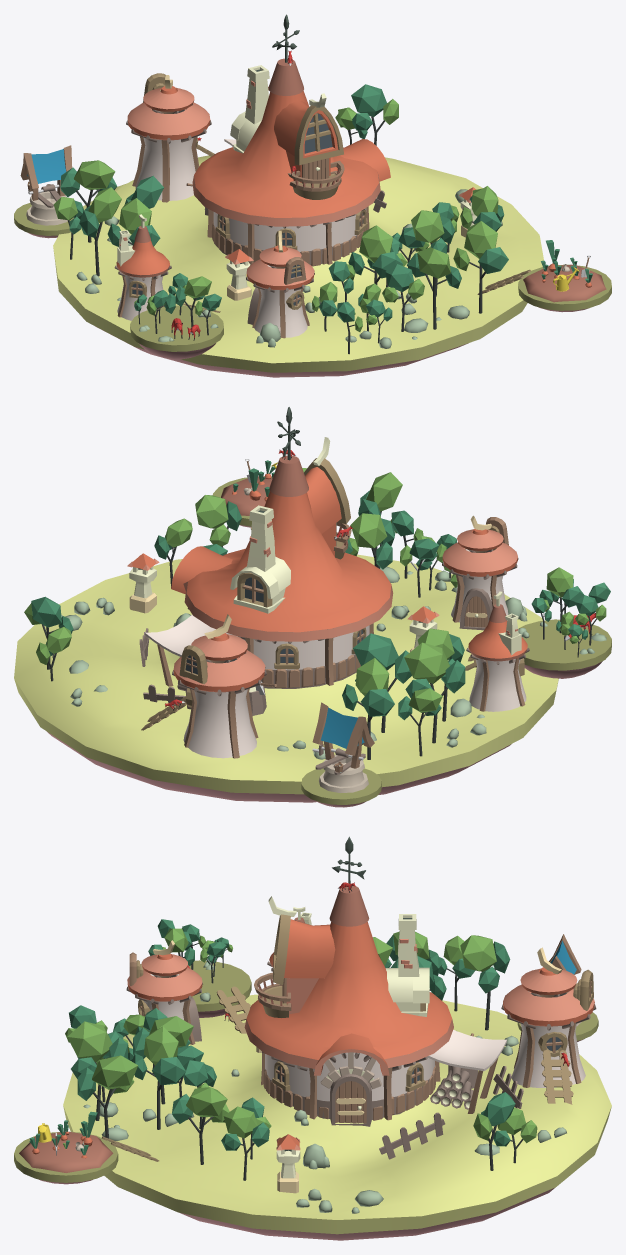
The model's file is island-opt.glb.
3 views of the same model, one above another, from view 1: azimuth 30°, elevation 25°; view 2: azimuth 150°, elevation 25°; view 3: azimuth 270°, elevation 25° (orthographic). The views are drawn at different scales.
Parts seen in each view (by area): view 1: pCylinder11, polySurface11, polySurface1188, polySurface12, polySurface345, polySurface342, polySurface16, polySurface1054, pCube205, polySurface840, pSphere1, polySurface1208 (+29 smaller); view 2: pCylinder11, polySurface11, polySurface345, polySurface1188, pSphere1, polySurface342, polySurface1122, polySurface1054, polySurface12, polySurface838, polySurface16, polySurface1522 (+35 smaller); view 3: pCylinder11, polySurface11, polySurface16, polySurface12, polySurface342, pCube205, polySurface1054, pSphere1, polySurface900, polySurface1188, polySurface345, polySurface838 (+31 smaller).
Boxes of the visible parts, x1,y1,x2,y2 form: pCylinder11: (53, 155, 543, 372); polySurface11: (192, 90, 380, 226); polySurface1188: (130, 305, 223, 351); polySurface12: (213, 208, 366, 251); polySurface345: (135, 110, 195, 200); polySurface342: (127, 102, 210, 140); polySurface16: (274, 100, 338, 182); polySurface1054: (335, 84, 398, 145); pCube205: (523, 264, 606, 302); polySurface840: (254, 265, 307, 337); pSphere1: (95, 326, 468, 377); polySurface1208: (518, 264, 611, 310); pCylinder11: (14, 554, 558, 794); polySurface11: (183, 491, 393, 641); polySurface345: (183, 659, 256, 758); polySurface1188: (518, 619, 611, 670); pSphere1: (47, 732, 511, 802); polySurface342: (173, 650, 265, 692); polySurface1122: (469, 658, 526, 711); polySurface1054: (24, 596, 73, 681); polySurface12: (244, 625, 369, 670); polySurface838: (442, 542, 517, 576); polySurface16: (305, 467, 341, 556); polySurface1522: (301, 768, 381, 804); pCylinder11: (63, 994, 611, 1234); polySurface11: (244, 922, 453, 1068); polySurface16: (284, 919, 335, 1014); polySurface12: (265, 1052, 434, 1101); polySurface342: (503, 984, 594, 1026); pCube205: (19, 1131, 113, 1172); polySurface1054: (473, 1092, 537, 1170); pSphere1: (179, 1187, 555, 1240); polySurface900: (427, 1030, 506, 1071); polySurface1188: (188, 960, 251, 1011); polySurface345: (511, 993, 585, 1087); polySurface838: (127, 967, 202, 1001).
Bounding box in the file's own units: 54.94 × 36.4 × 58.8.
